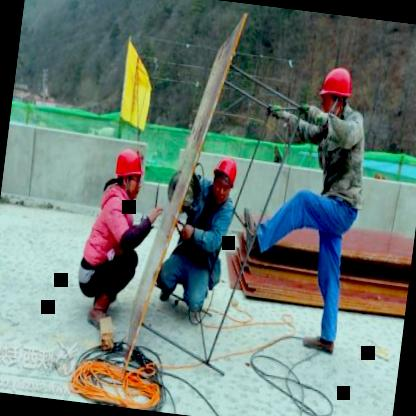helmet: (106, 141, 148, 209), (314, 62, 357, 121), (208, 154, 238, 203)
